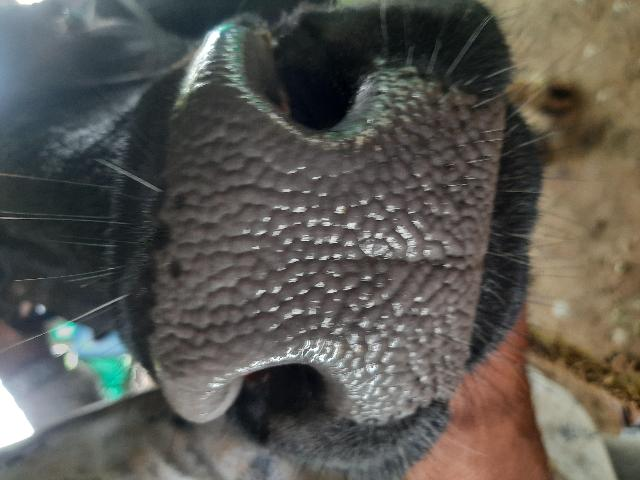Muzzle: (154, 106, 482, 372)
